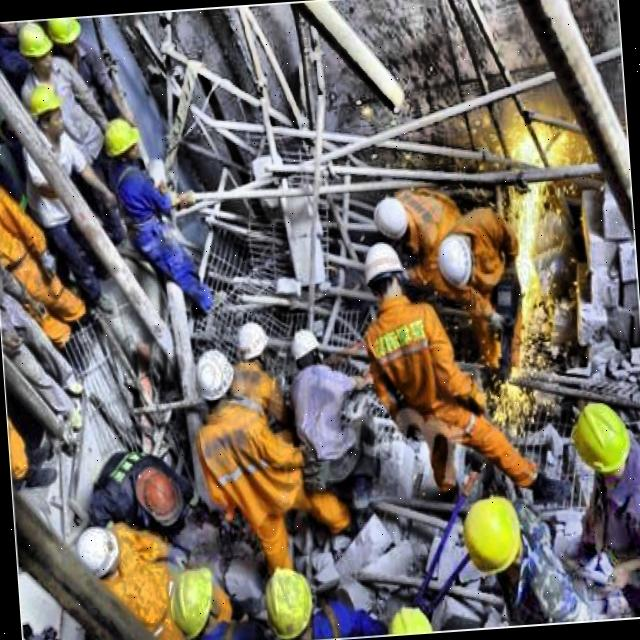helmet: (564, 394, 634, 484), (457, 489, 524, 582), (161, 563, 225, 640), (258, 558, 318, 640), (68, 520, 130, 588), (190, 344, 242, 412), (126, 458, 181, 522), (358, 238, 408, 306), (430, 228, 480, 289), (22, 82, 68, 146), (101, 114, 144, 175), (371, 195, 414, 252), (232, 315, 270, 375), (286, 322, 324, 382), (15, 22, 54, 77), (44, 18, 84, 56)
